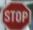Stop sign: (0, 0, 32, 29)
